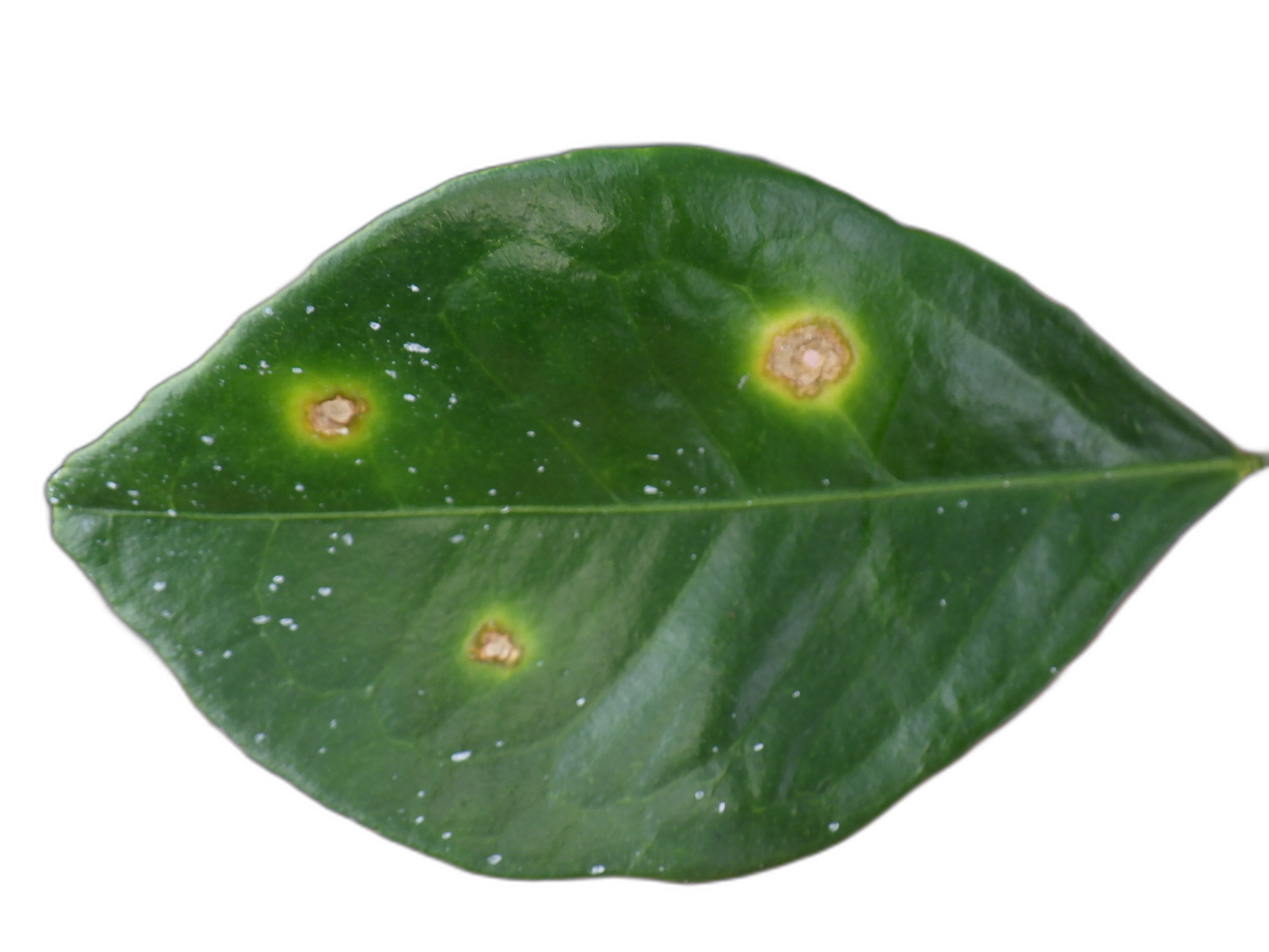Canker: (760, 315, 856, 399), (467, 618, 526, 667), (304, 393, 368, 438)
